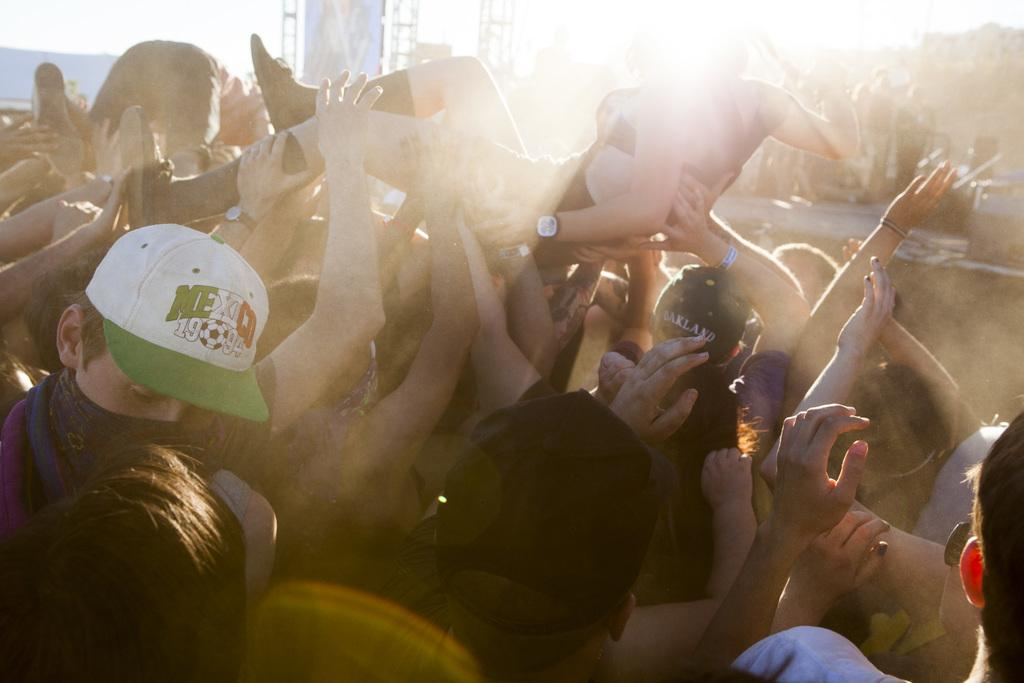Hat: (438, 387, 656, 634), (80, 221, 269, 420)
